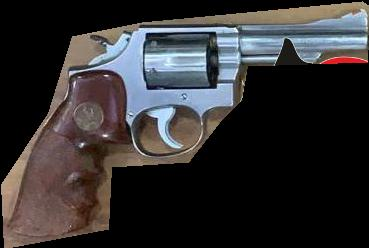gun: (1, 1, 369, 248)
